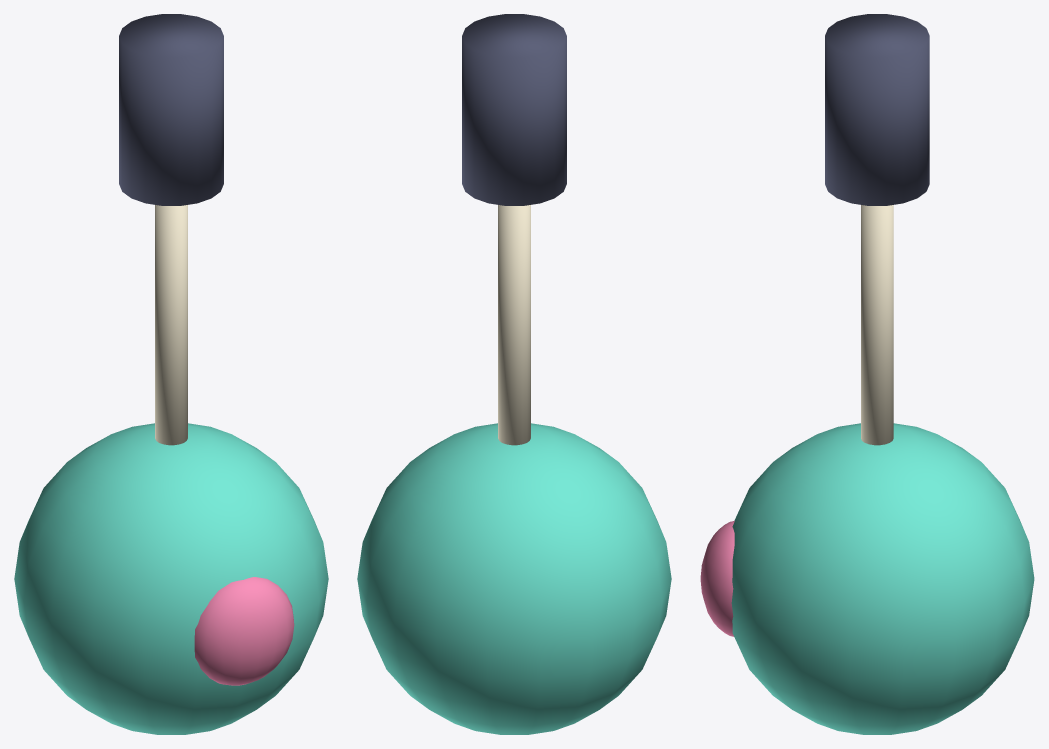
The model's file is FestivalPoi.fbx.
3 views of the same model, side by side, from view 1: azimuth 30°, elevation 25°; view 2: azimuth 150°, elevation 25°; view 3: azimuth 270°, elevation 25° (orthographic).
Visible parts, largest first — view 1: FestivalPoi Mint__Mint, FestivalPoi Dark__Dark, FestivalPoi Rose__Rose, FestivalPoi Cream__Cream; view 2: FestivalPoi Mint__Mint, FestivalPoi Dark__Dark, FestivalPoi Cream__Cream; view 3: FestivalPoi Mint__Mint, FestivalPoi Dark__Dark, FestivalPoi Cream__Cream, FestivalPoi Rose__Rose.
Boxes of the visible parts, x1=… form: FestivalPoi Mint__Mint: x1=14, y1=423, x2=328, y2=734; FestivalPoi Dark__Dark: x1=119, y1=14, x2=223, y2=205; FestivalPoi Rose__Rose: x1=194, y1=577, x2=294, y2=685; FestivalPoi Cream__Cream: x1=155, y1=205, x2=187, y2=445; FestivalPoi Mint__Mint: x1=357, y1=423, x2=671, y2=734; FestivalPoi Dark__Dark: x1=462, y1=14, x2=566, y2=205; FestivalPoi Cream__Cream: x1=498, y1=205, x2=530, y2=445; FestivalPoi Mint__Mint: x1=731, y1=423, x2=1034, y2=734; FestivalPoi Dark__Dark: x1=825, y1=14, x2=929, y2=205; FestivalPoi Cream__Cream: x1=861, y1=205, x2=893, y2=445; FestivalPoi Rose__Rose: x1=700, y1=521, x2=734, y2=636.
Size of the model in its own units: 47.27 by 116 by 51.
